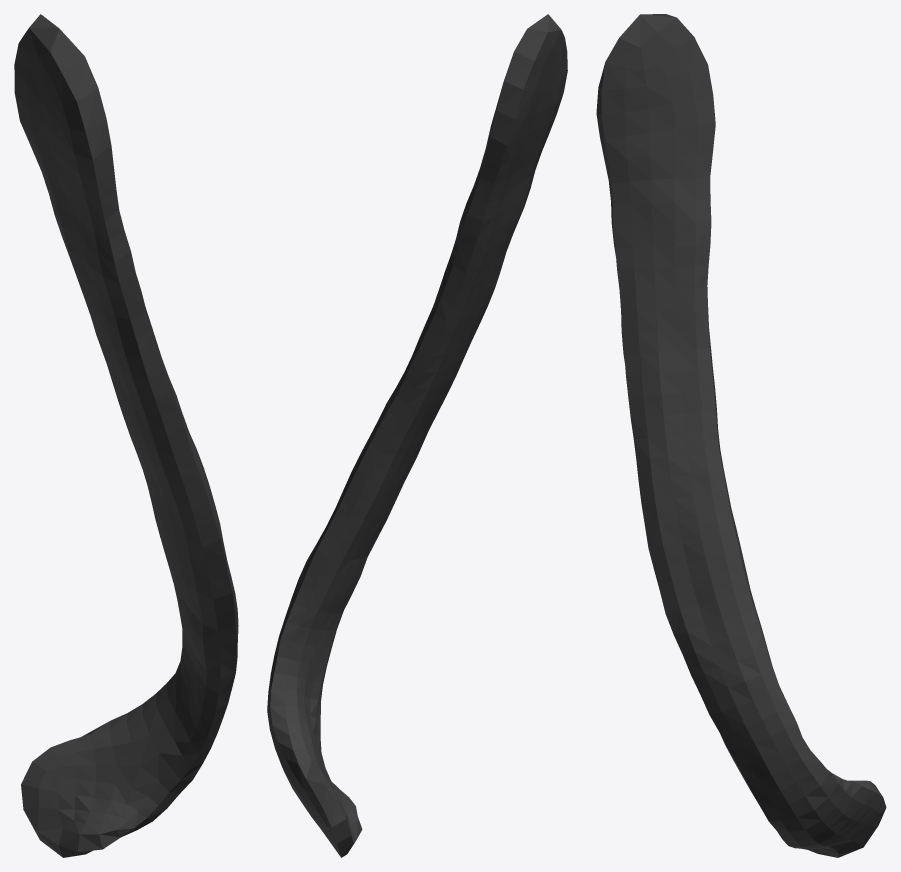
Rendered from Lateral_collateral_ligament.glb.
The picture shows the model from 3 angles, left to right: view 1: azimuth 30°, elevation 25°; view 2: azimuth 150°, elevation 25°; view 3: azimuth 270°, elevation 25°; orthographic projection. The views are drawn at different scales.
Visible parts, largest first — view 1: Lateral_collateral_ligament; view 2: Lateral_collateral_ligament; view 3: Lateral_collateral_ligament.
Boxes of the visible parts, x1,y1,x2,y2 form: Lateral_collateral_ligament: [14, 14, 238, 857]; Lateral_collateral_ligament: [267, 14, 567, 857]; Lateral_collateral_ligament: [596, 14, 886, 857].
Size of the model in its own units: 0.0909 by 0.3241 by 0.1073.
Materials: 1 (1 with a texture image).
